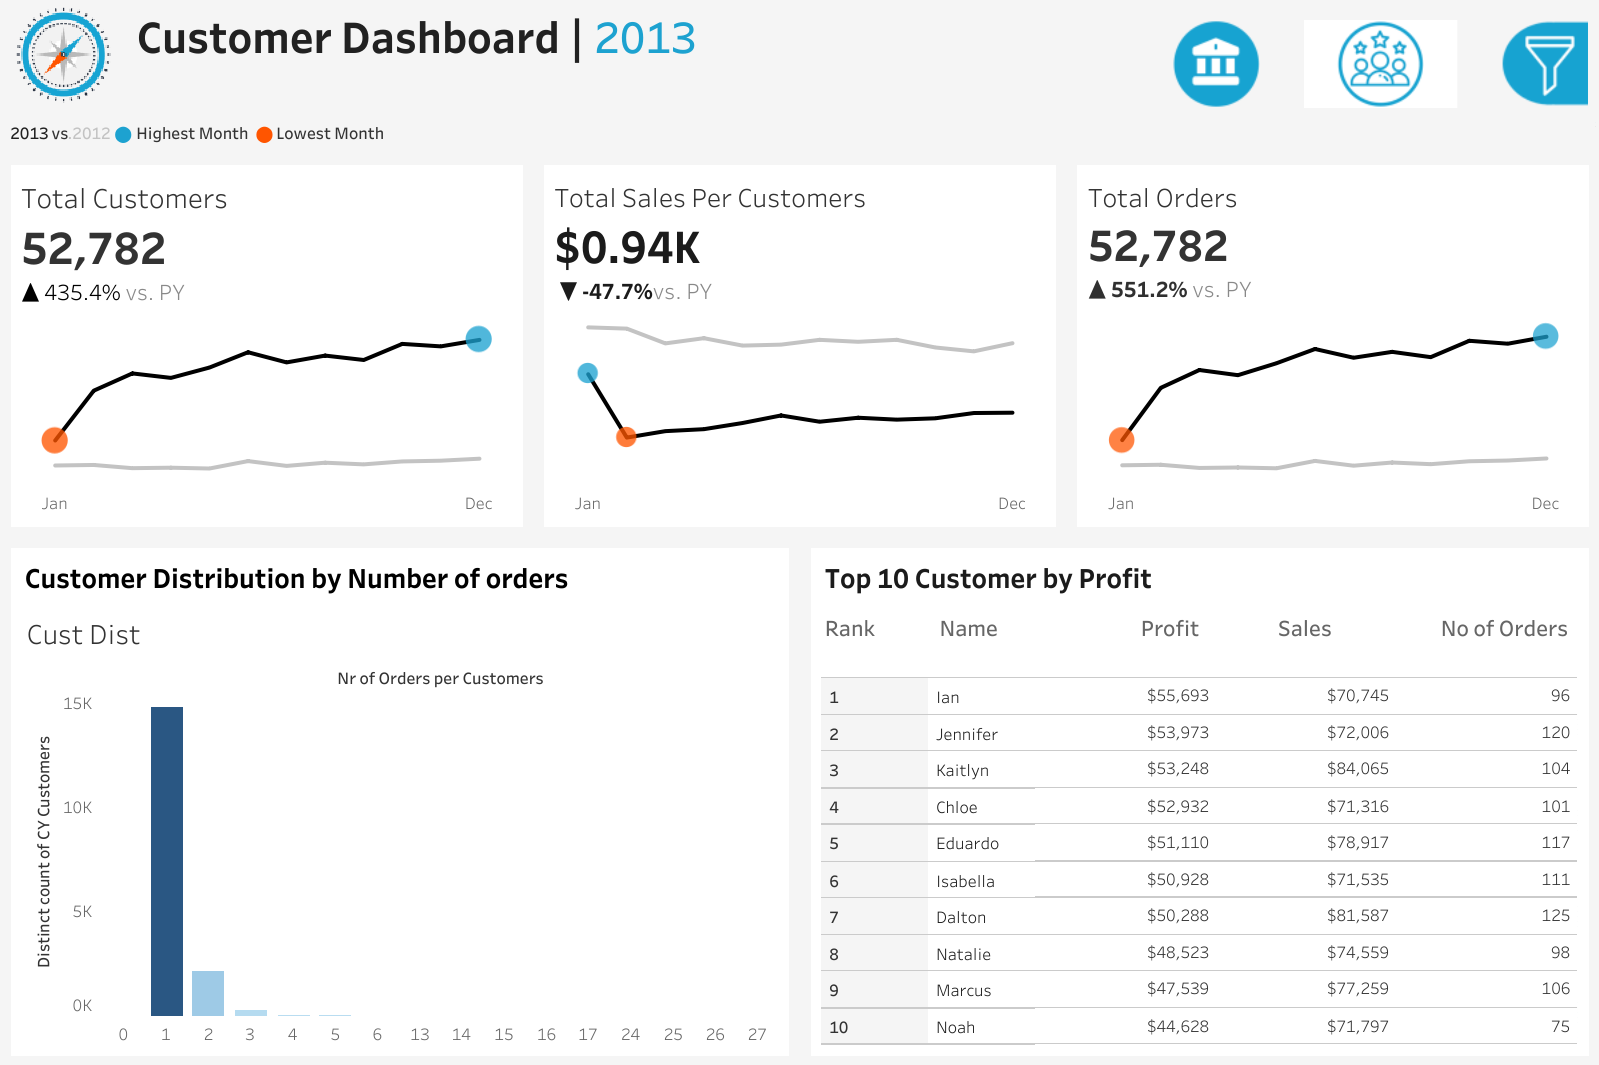

The page's visual inventory and layout, read from the dashboard file:
{"tool":"tableau","page":{"name":"Customer Dashboard","canvas":[1200,800],"ordinal":0},"visuals":[{"type":"image","param":"Image/Icon - Logo.png","box":[0,0,96,82]},{"type":"text","box":[96,0,1104,53]},{"type":"dashboard-object","box":[851,11,123,74]},{"type":"dashboard-object","box":[974,11,123,74]},{"type":"blank","box":[860,14,345,137]},{"type":"worksheet","title":"Legends 2","mark":"Automatic","box":[0,82,1200,34]},{"type":"worksheet","title":"KPI Customer","mark":"Automatic","rows":["Calculation_1050183172344086534"],"cols":["order_date"],"box":[0,116,400,287]},{"type":"worksheet","title":"KPI sales per customer","mark":"Automatic","rows":["Calculation_1050183172344512521"],"cols":["order_date"],"box":[400,116,400,287]},{"type":"worksheet","title":"KPI Orders","mark":"Automatic","rows":["Calculation_1050183172345401358"],"cols":["order_date"],"box":[800,116,400,287]},{"type":"text","box":[860,151,345,106]},{"type":"parameter","param":"[Parameters].[Parameter 1]","box":[860,257,345,55]},{"type":"text","box":[860,312,345,109]},{"type":"text","box":[12,415,576,35]},{"type":"text","box":[612,415,576,35]},{"type":"filter","title":"KPI Customer","param":"[federated.0c818gv0i62tdq19gkc2x0k0jdxb].[none:subcategory:nk]","box":[860,421,345,61]},{"type":"worksheet","title":"Cust Dist","mark":"Bar","rows":["Calculation_1050183172342280194"],"cols":["Calculation_1050183172342738948"],"box":[12,450,576,338]},{"type":"text","box":[612,450,86,38]},{"type":"text","box":[698,450,151,38]},{"type":"text","box":[849,450,103,38]},{"type":"text","box":[952,450,122,38]},{"type":"text","box":[1074,450,114,38]},{"type":"filter","title":"KPI Customer","param":"[federated.0c818gv0i62tdq19gkc2x0k0jdxb].[none:category:nk]","box":[860,482,345,66]},{"type":"worksheet","title":"top 10 cust","mark":"Automatic","rows":["Calculation_1050183172631769116","first_name"],"box":[612,488,576,300]},{"type":"text","box":[860,548,345,77]},{"type":"filter","title":"KPI Customer","param":"[federated.0c818gv0i62tdq19gkc2x0k0jdxb].[none:country:nk]","box":[860,625,345,52]}]}

Visuals, with their boxes in screenshot pixels (x1, y1, x2, y2), scaled from the page's 1200x800 canvas onto the 1599x1065 screenshot:
image: <bbox>0, 0, 128, 109</bbox>
text: <bbox>128, 0, 1598, 71</bbox>
dashboard-object: <bbox>1134, 15, 1298, 113</bbox>
dashboard-object: <bbox>1298, 15, 1462, 113</bbox>
blank: <bbox>1146, 19, 1598, 201</bbox>
"Legends 2" worksheet: <bbox>0, 109, 1598, 154</bbox>
"KPI Customer" worksheet: <bbox>0, 154, 533, 536</bbox>
"KPI sales per customer" worksheet: <bbox>533, 154, 1066, 536</bbox>
"KPI Orders" worksheet: <bbox>1066, 154, 1598, 536</bbox>
text: <bbox>1146, 201, 1598, 342</bbox>
parameter: <bbox>1146, 342, 1598, 415</bbox>
text: <bbox>1146, 415, 1598, 560</bbox>
text: <bbox>16, 552, 784, 599</bbox>
text: <bbox>815, 552, 1583, 599</bbox>
"KPI Customer" filter: <bbox>1146, 560, 1598, 642</bbox>
"Cust Dist" worksheet (Bar marks): <bbox>16, 599, 784, 1049</bbox>
text: <bbox>815, 599, 930, 650</bbox>
text: <bbox>930, 599, 1131, 650</bbox>
text: <bbox>1131, 599, 1269, 650</bbox>
text: <bbox>1269, 599, 1431, 650</bbox>
text: <bbox>1431, 599, 1583, 650</bbox>
"KPI Customer" filter: <bbox>1146, 642, 1598, 730</bbox>
"top 10 cust" worksheet: <bbox>815, 650, 1583, 1049</bbox>
text: <bbox>1146, 730, 1598, 832</bbox>
"KPI Customer" filter: <bbox>1146, 832, 1598, 901</bbox>
